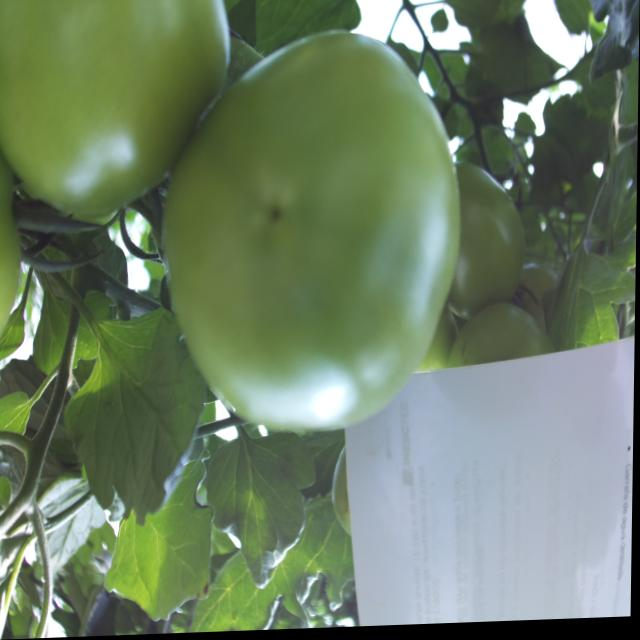yesil: (0, 0, 498, 474)
